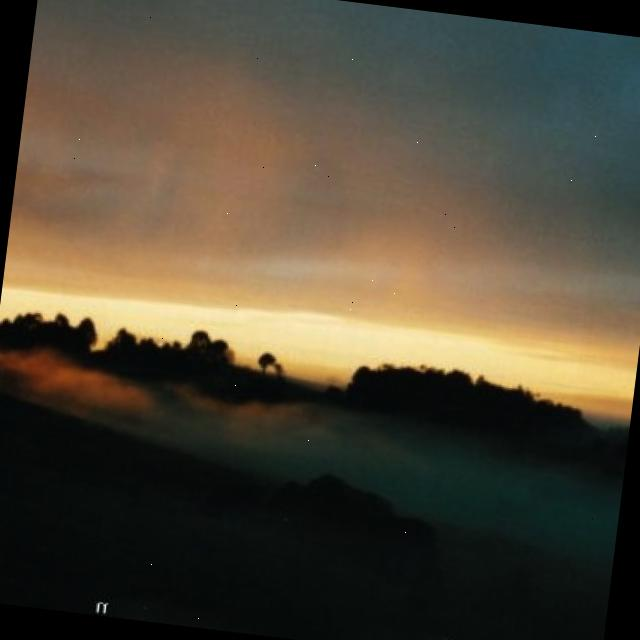Ns: (3, 1, 640, 361)
